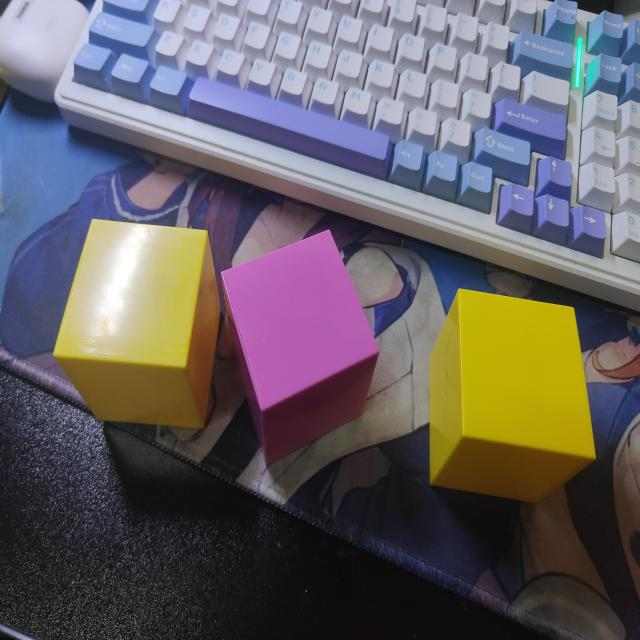pink: (220, 225, 381, 469)
yellow: (427, 288, 597, 506), (52, 220, 223, 436)
